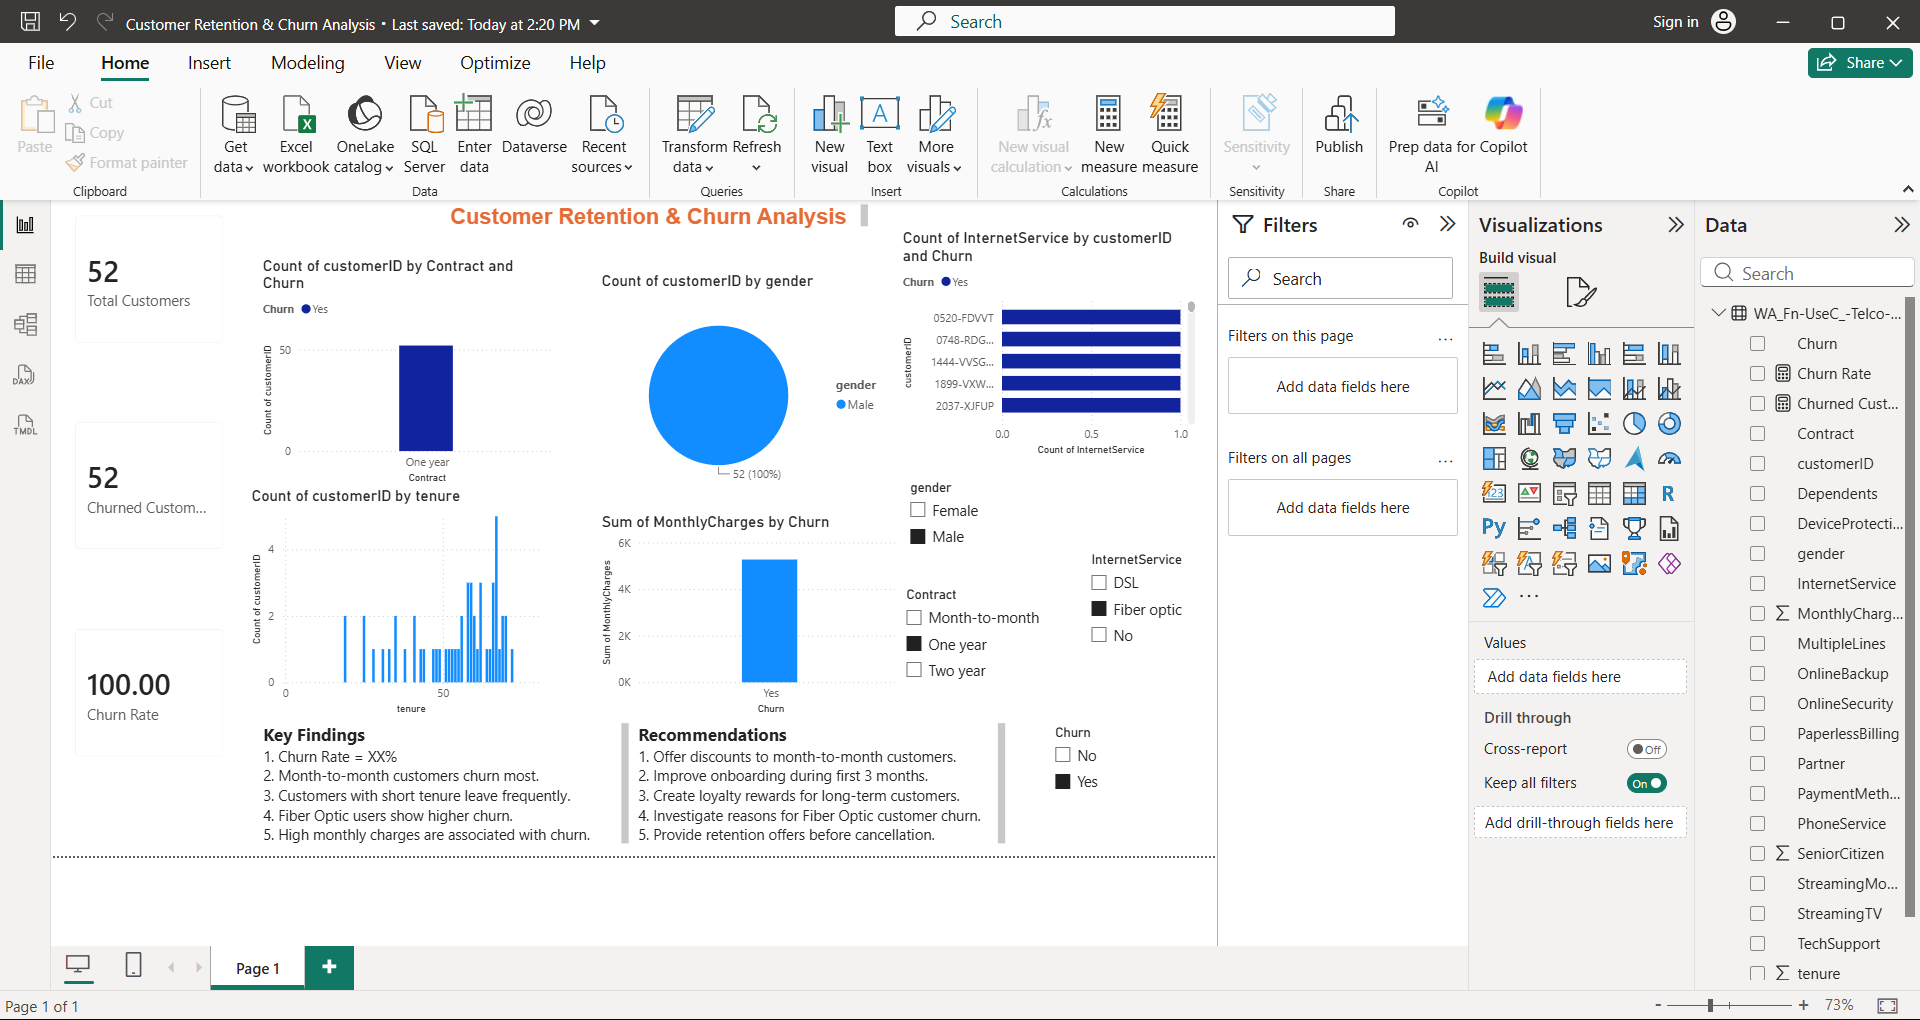

The page's visual inventory and layout, read from the dashboard file:
{"tool":"powerbi","page":{"name":"Page 1","canvas":[1280,720],"ordinal":0},"visuals":[{"type":"cardVisual","fields":{"Data":["WA_Fn-UseC_-Telco-Customer-Churn.Total Customers"]},"box":[9.6,0,196.2,174.3],"z":0},{"type":"cardVisual","fields":{"Data":["WA_Fn-UseC_-Telco-Customer-Churn.Churned Customers"]},"box":[10,227,196,174],"z":1000},{"type":"cardVisual","fields":{"Data":["WA_Fn-UseC_-Telco-Customer-Churn.Churn Rate"]},"box":[10,454,196,174],"z":2000},{"type":"clusteredColumnChart","fields":{"Category":["WA_Fn-UseC_-Telco-Customer-Churn.Contract"],"Series":["WA_Fn-UseC_-Telco-Customer-Churn.Churn"],"Y":["CountNonNull(WA_Fn-UseC_-Telco-Customer-Churn.customerID)"]},"box":[258,19.2,330.7,253.9],"z":3000},{"type":"pieChart","fields":{"Category":["WA_Fn-UseC_-Telco-Customer-Churn.gender"],"Y":["CountNonNull(WA_Fn-UseC_-Telco-Customer-Churn.customerID)"]},"box":[599,19,331,254],"z":4000},{"type":"clusteredBarChart","fields":{"Y":["CountNonNull(WA_Fn-UseC_-Telco-Customer-Churn.InternetService)"],"Series":["WA_Fn-UseC_-Telco-Customer-Churn.Churn"],"Category":["WA_Fn-UseC_-Telco-Customer-Churn.customerID"]},"box":[940,19,331,254],"z":5000},{"type":"columnChart","fields":{"Category":["WA_Fn-UseC_-Telco-Customer-Churn.tenure"],"Y":["CountNonNull(WA_Fn-UseC_-Telco-Customer-Churn.customerID)"]},"box":[258,286,331,254],"z":6000},{"type":"clusteredColumnChart","fields":{"Category":["WA_Fn-UseC_-Telco-Customer-Churn.Churn"],"Y":["Sum(WA_Fn-UseC_-Telco-Customer-Churn.MonthlyCharges)"]},"box":[599,286,331,254],"z":7000},{"type":"slicer","fields":{"Values":["WA_Fn-UseC_-Telco-Customer-Churn.gender"]},"box":[940,285.4,179.8,115.3],"z":8000},{"type":"slicer","fields":{"Values":["WA_Fn-UseC_-Telco-Customer-Churn.Contract"]},"box":[940,400,180,150],"z":9000},{"type":"slicer","fields":{"Values":["WA_Fn-UseC_-Telco-Customer-Churn.InternetService"]},"box":[1119.7,343.1,150.9,150.9],"z":10000},{"type":"textbox","box":[258,540.7,381.5,149.6],"z":11000},{"type":"textbox","box":[639.5,540.7,410.3,150.9],"z":12000},{"type":"slicer","fields":{"Values":["WA_Fn-UseC_-Telco-Customer-Churn.Churn"]},"box":[1119.7,540.7,150.9,115.3],"z":13000}]}

Visuals, with their boxes on the page's 1280x720 design canvas (x1, y1, x2, y2). These are canvas units, not pixel positions in the 1920x1020 screenshot, which may show the page scaled, cropped or inside an application window:
cardVisual - WA_Fn-UseC_-Telco-Customer-Churn.Total Customers: [10,0,206,174]
cardVisual - WA_Fn-UseC_-Telco-Customer-Churn.Churned Customers: [10,227,206,401]
cardVisual - WA_Fn-UseC_-Telco-Customer-Churn.Churn Rate: [10,454,206,628]
clusteredColumnChart - WA_Fn-UseC_-Telco-Customer-Churn.Contract x WA_Fn-UseC_-Telco-Customer-Churn.Churn: [258,19,589,273]
pieChart - WA_Fn-UseC_-Telco-Customer-Churn.gender x CountNonNull(WA_Fn-UseC_-Telco-Customer-Churn.customerID): [599,19,930,273]
clusteredBarChart - CountNonNull(WA_Fn-UseC_-Telco-Customer-Churn.InternetService) x WA_Fn-UseC_-Telco-Customer-Churn.Churn: [940,19,1271,273]
columnChart - WA_Fn-UseC_-Telco-Customer-Churn.tenure x CountNonNull(WA_Fn-UseC_-Telco-Customer-Churn.customerID): [258,286,589,540]
clusteredColumnChart - WA_Fn-UseC_-Telco-Customer-Churn.Churn x Sum(WA_Fn-UseC_-Telco-Customer-Churn.MonthlyCharges): [599,286,930,540]
slicer - WA_Fn-UseC_-Telco-Customer-Churn.gender: [940,285,1120,401]
slicer - WA_Fn-UseC_-Telco-Customer-Churn.Contract: [940,400,1120,550]
slicer - WA_Fn-UseC_-Telco-Customer-Churn.InternetService: [1120,343,1271,494]
textbox: [258,541,640,690]
textbox: [640,541,1050,692]
slicer - WA_Fn-UseC_-Telco-Customer-Churn.Churn: [1120,541,1271,656]
